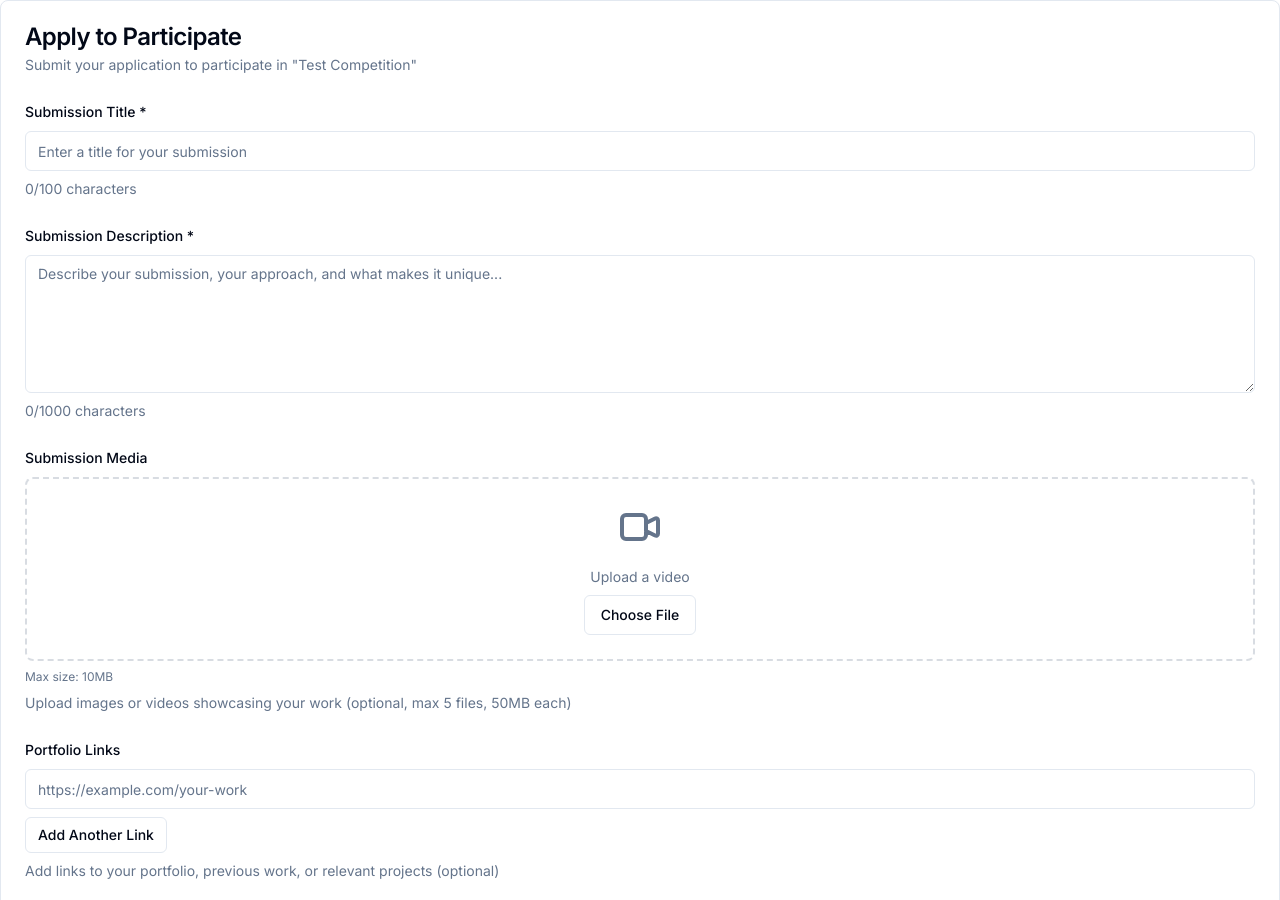
Test: Participation System › ParticipationForm › manages portfolio links correctly
Expected: the number of fields with placeholder "https://example.com/your-work" is 1, x1=25 y1=769 x2=1255 y2=809
# Add another link
Step 1. Click the button "Add Another Link" → point(96, 835), box x1=25 y1=817 x2=167 y2=853
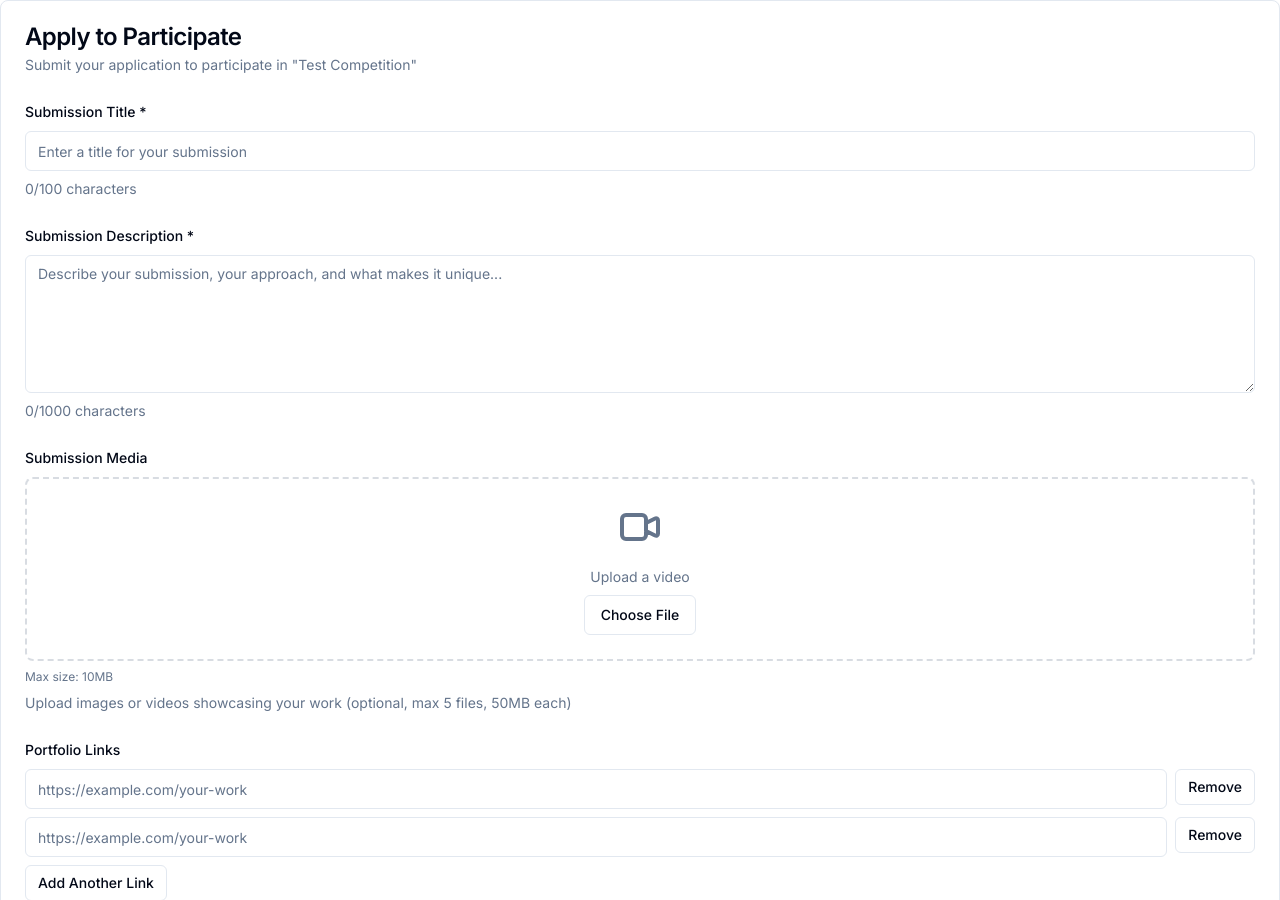
Expected: the number of fields with placeholder "https://example.com/your-work" is 2, x1=25 y1=769 x2=1167 y2=809; x1=25 y1=817 x2=1167 y2=857
# Remove a link
Step 2. Click the 1st button "Remove" → point(1215, 787), box x1=1175 y1=769 x2=1255 y2=805
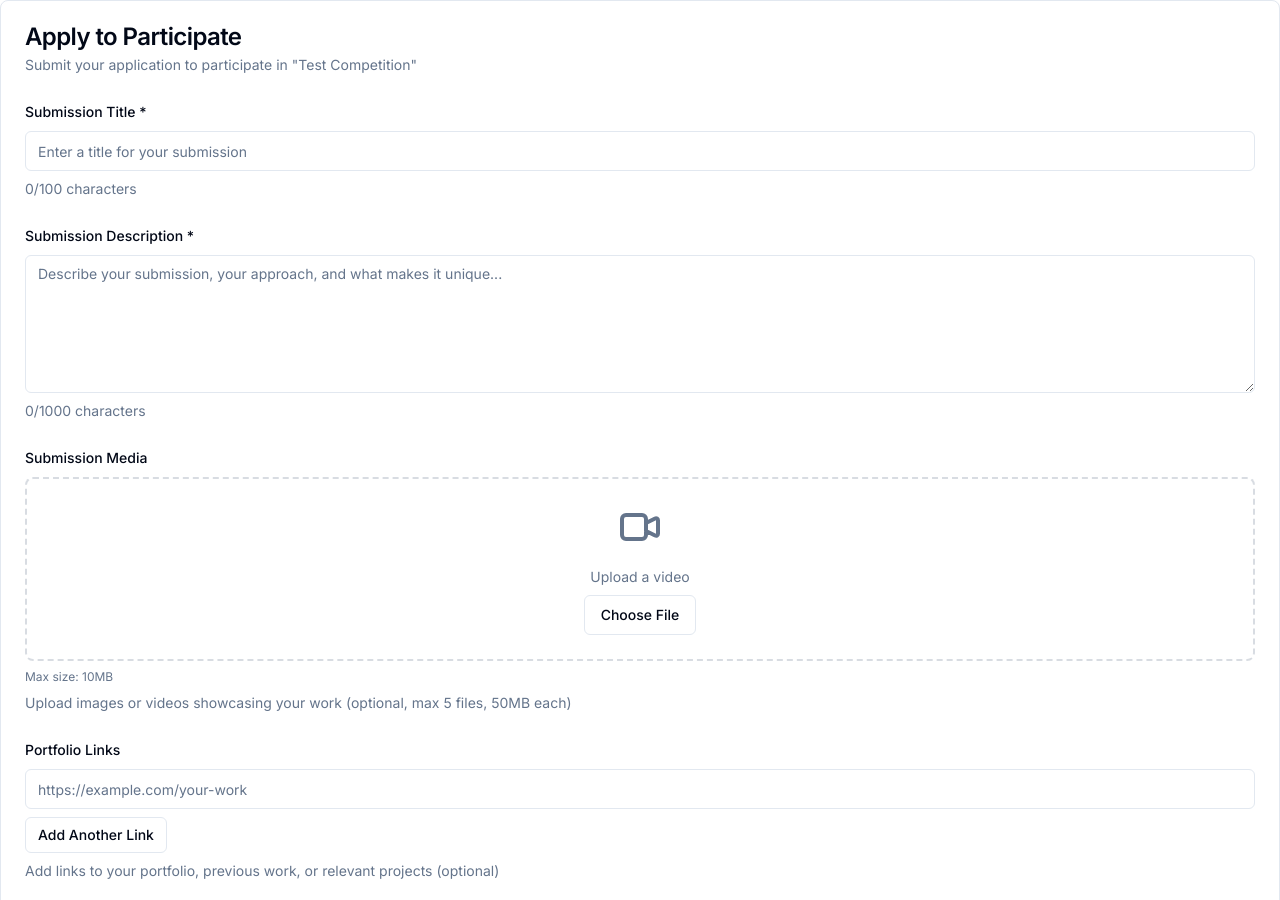
Expected: the number of fields with placeholder "https://example.com/your-work" is 1, x1=25 y1=769 x2=1255 y2=809
